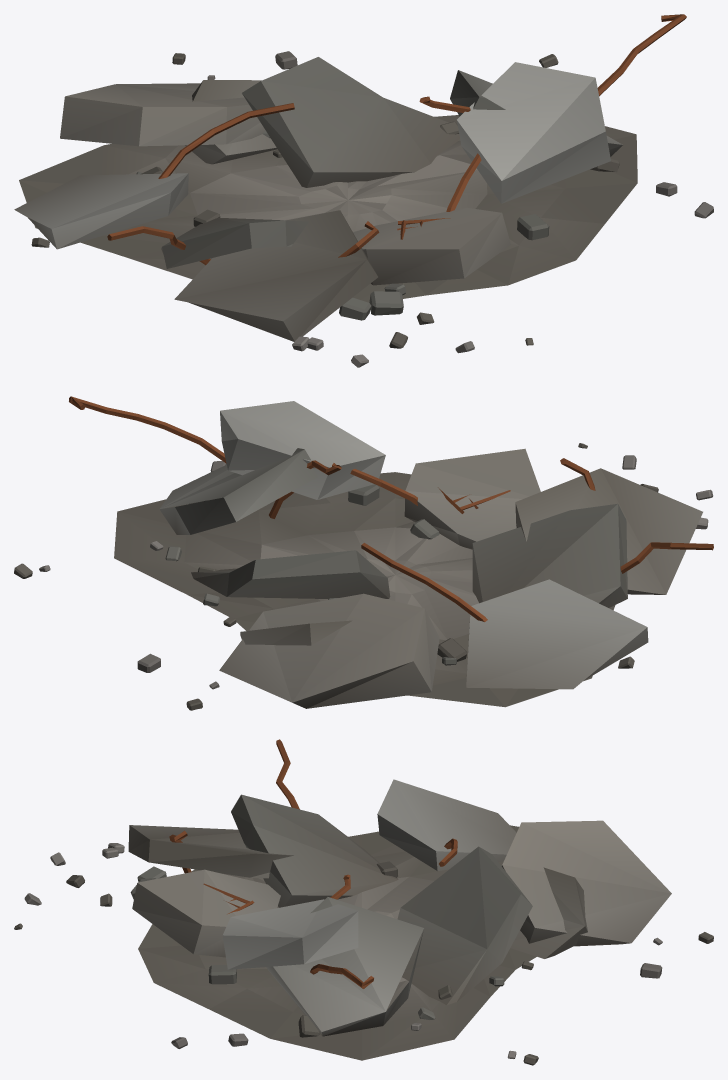
Rendered from concrete-chunks.glb.
The picture shows the model from 3 angles, top to bottom: view 1: azimuth 30°, elevation 25°; view 2: azimuth 150°, elevation 25°; view 3: azimuth 270°, elevation 25°; orthographic projection. The views are drawn at different scales.
Visible parts, largest first — view 1: concrete_chunks; view 2: concrete_chunks; view 3: concrete_chunks.
Part boxes in pixels (x1=…): concrete_chunks: x1=14, y1=14, x2=713, y2=367; concrete_chunks: x1=14, y1=396, x2=713, y2=710; concrete_chunks: x1=14, y1=739, x2=713, y2=1065.
Bounding box in the file's own units: 2.42 × 0.4016 × 2.58.
